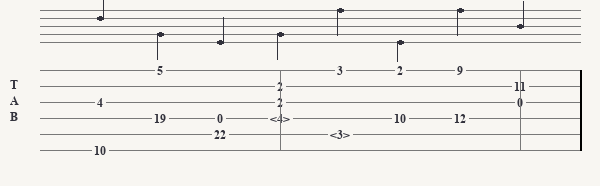0: (217, 112, 227, 125), (517, 96, 527, 109)
10: (94, 144, 110, 157), (394, 112, 410, 125)
11: (514, 80, 530, 93)
12: (454, 112, 470, 125)
19: (154, 112, 170, 125)
2: (277, 80, 287, 93), (277, 96, 287, 109), (397, 64, 407, 77)
22: (214, 128, 230, 141)
3: (337, 64, 347, 77)
4: (97, 96, 107, 109)
5: (157, 64, 167, 77)
9: (457, 64, 467, 77)
harmonic: (270, 112, 294, 125), (330, 128, 354, 141)
